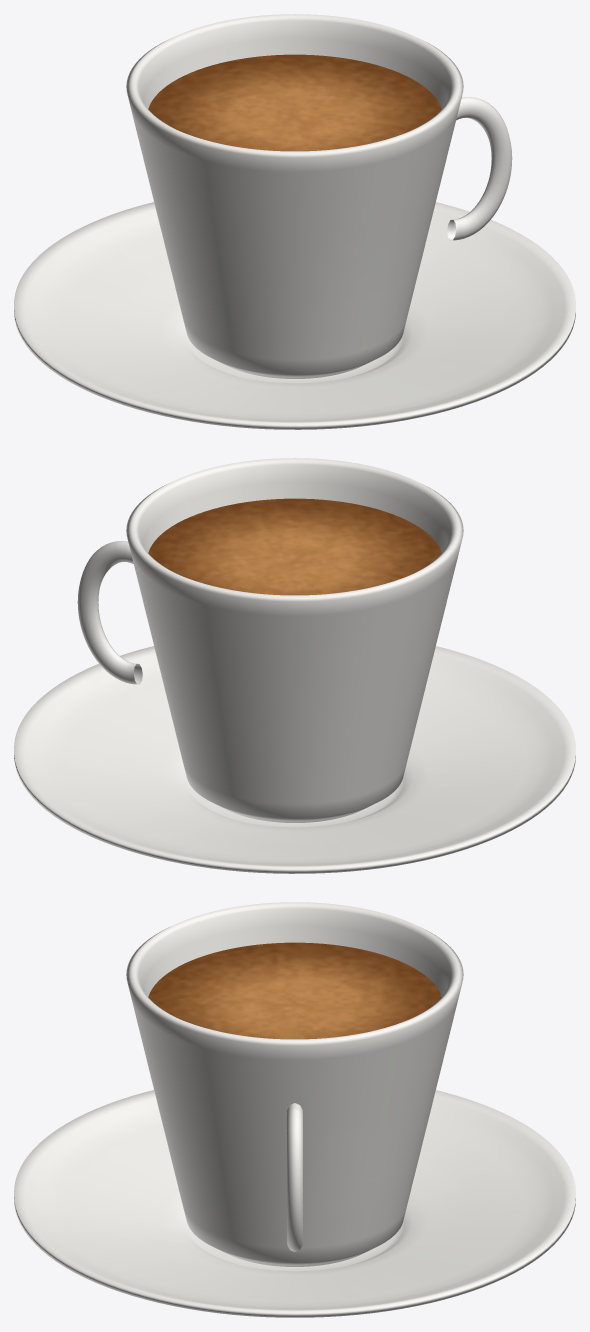
Rendered from americano.glb.
3 renders of one model, top to bottom at view 1: azimuth 30°, elevation 25°; view 2: azimuth 150°, elevation 25°; view 3: azimuth 270°, elevation 25°, orthographic.
Parts seen in each view (by area): view 1: ceramic, satin; view 2: ceramic, satin; view 3: ceramic, satin.
Boxes of the visible parts, <box> form: ceramic: <box>14,14,575,429</box>; satin: <box>148,54,441,151</box>; ceramic: <box>14,458,575,873</box>; satin: <box>148,498,441,595</box>; ceramic: <box>14,902,575,1317</box>; satin: <box>148,942,441,1039</box>.
Size of the model in its own units: 0.16 by 0.0852 by 0.16.
Materials: 2 (2 with a texture image).
